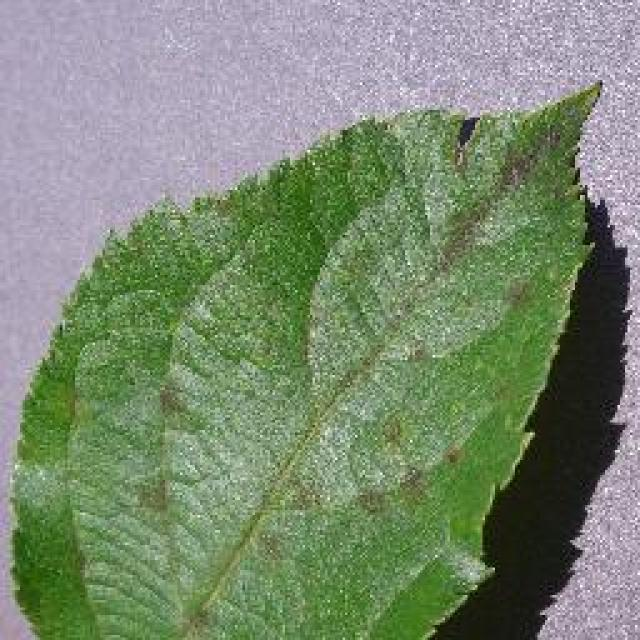apple scab disease: (5, 78, 607, 638)
